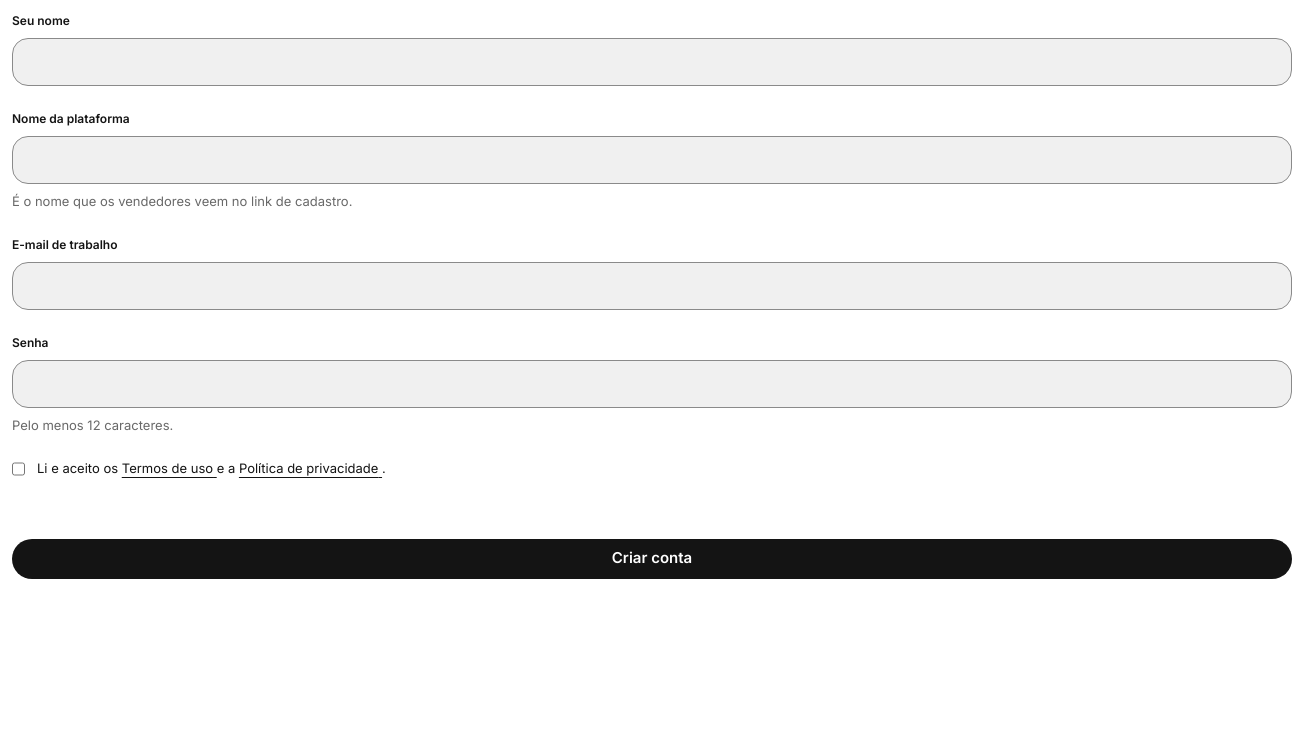
it: SignupForm (S1, AC 1, AC 2) › without a Turnstile token (the script never loaded), submitting shows auth.error.turnstile, not a dead button
The width and height of the screenshot is (1304, 732).
Type "Pessoa" into the field labelled "Seu nome" at (652, 62), box x1=12 y1=38 x2=1292 y2=86
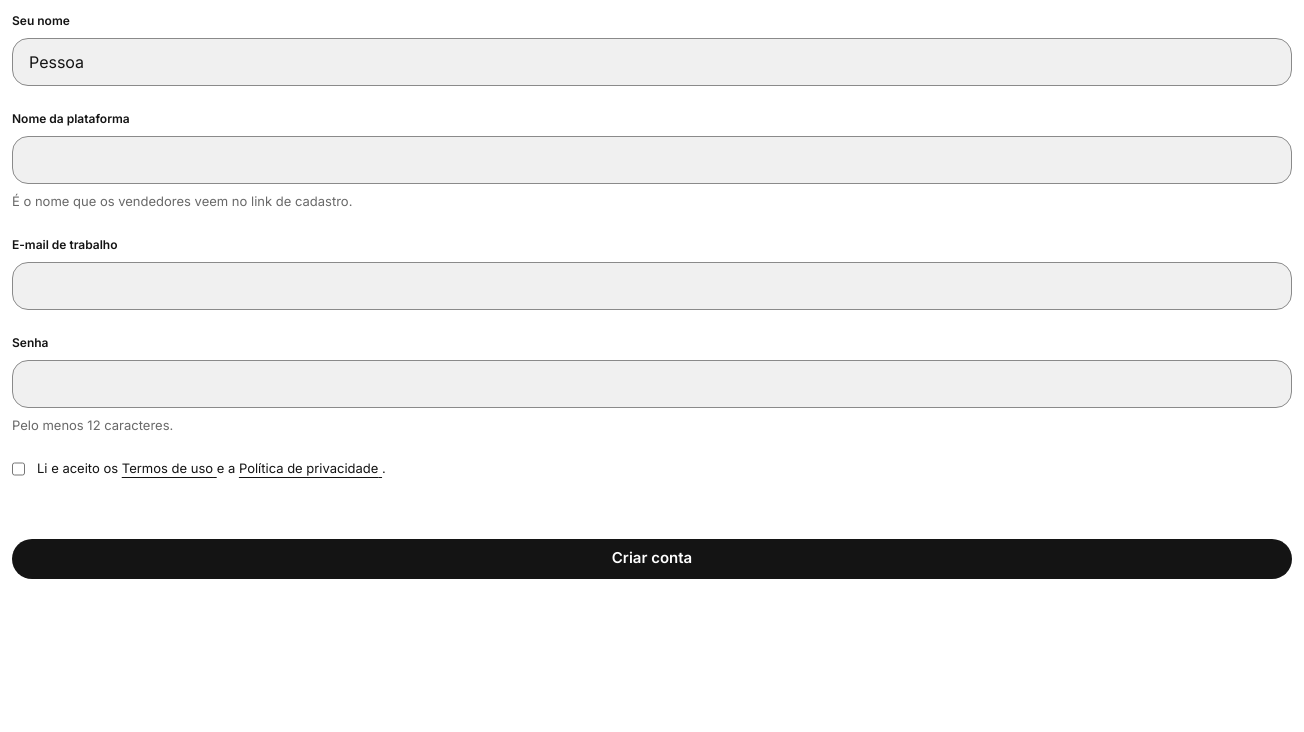
Type "P" into the field labelled "Nome da plataforma" at (652, 160), box x1=12 y1=136 x2=1292 y2=184
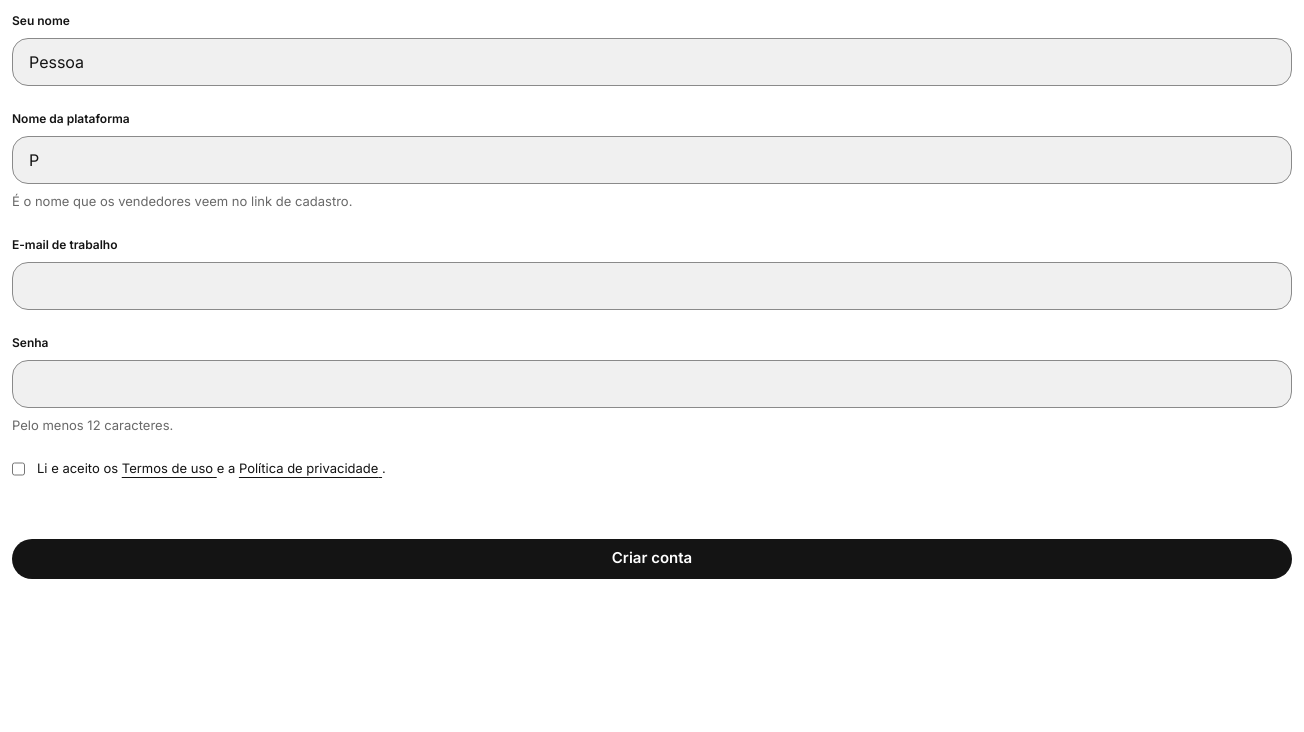
Type "p@exemplo.test" into the field labelled "E-mail de trabalho" at (652, 286), box x1=12 y1=262 x2=1292 y2=310
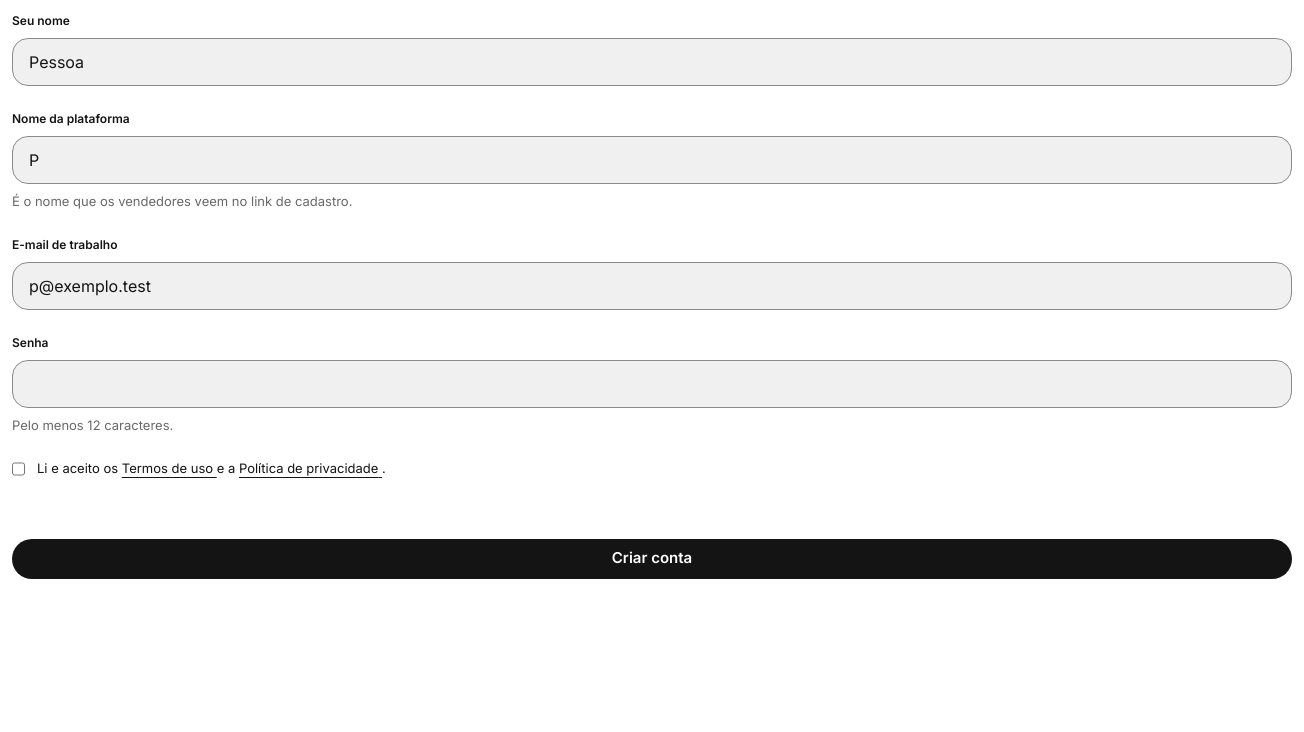
Type "senha-longa-123" into the password field labelled "Senha" at (652, 384), box x1=12 y1=360 x2=1292 y2=408
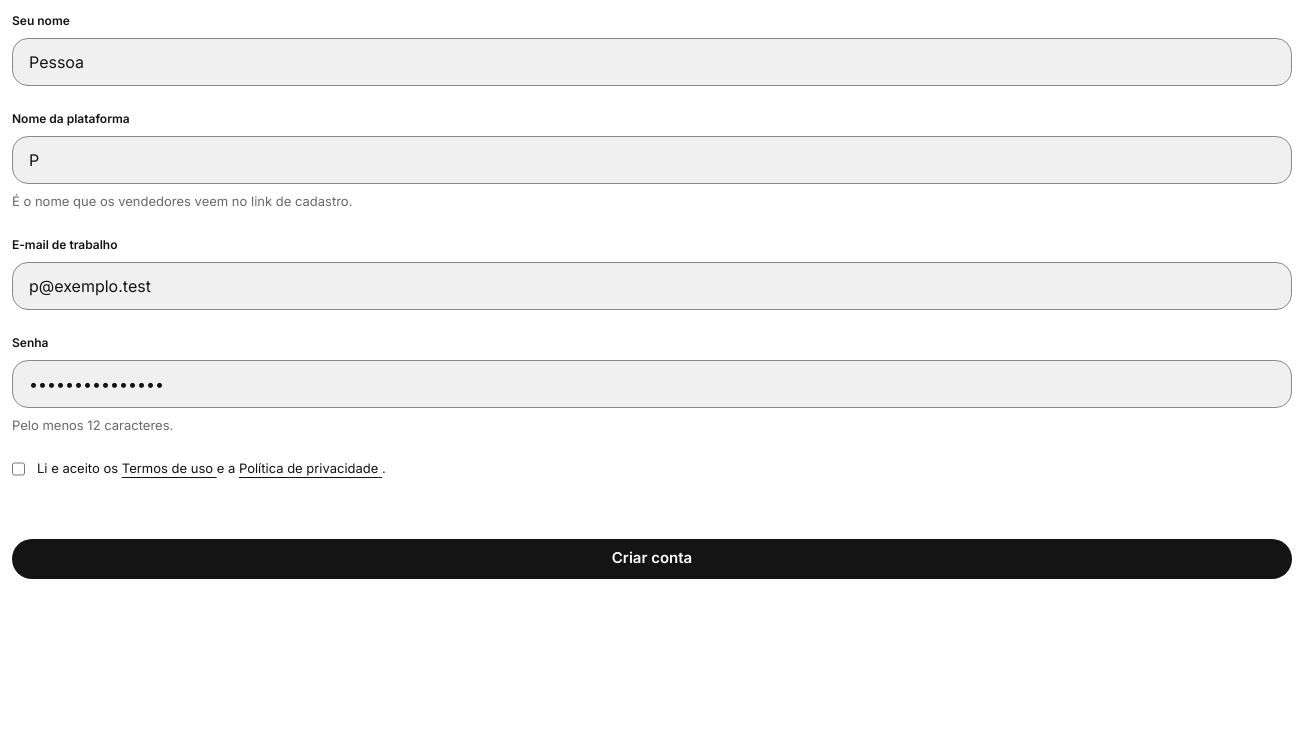
Click the checkbox at (18, 469), box x1=12 y1=459 x2=25 y2=478
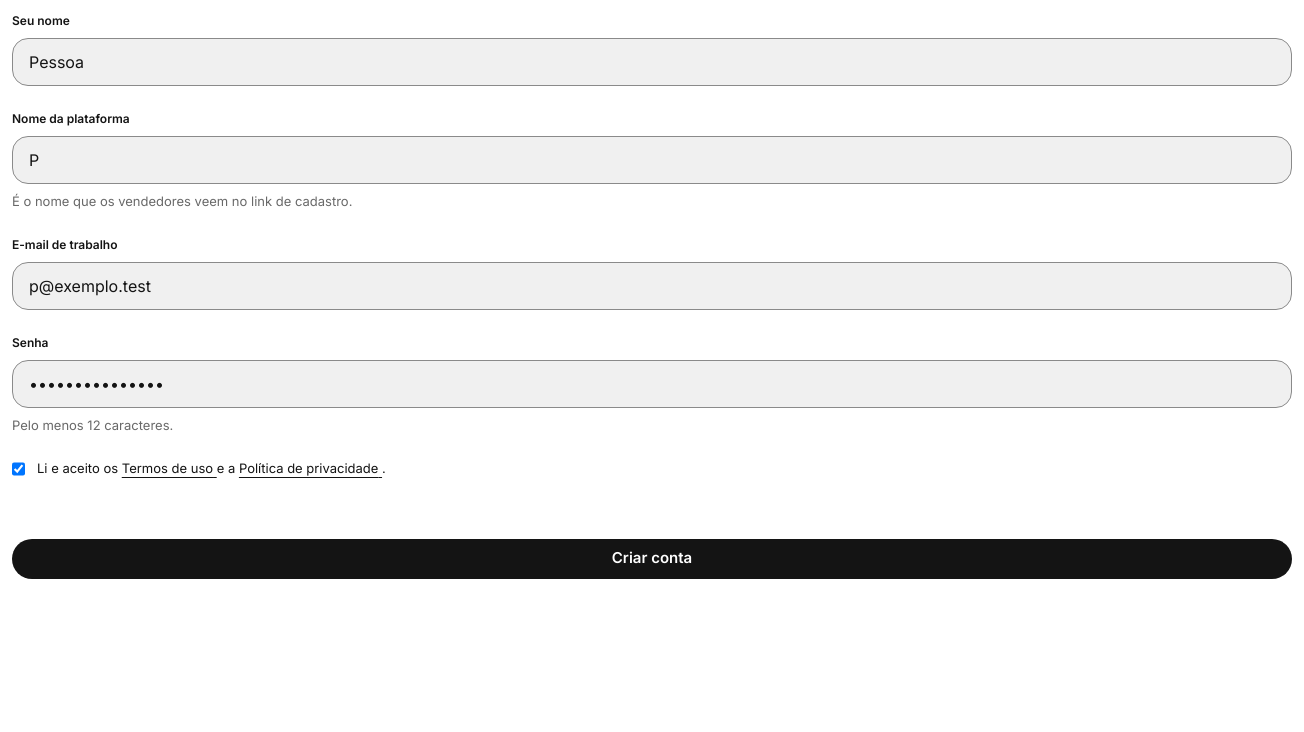
Click the button "Criar conta" at (652, 558), box x1=12 y1=538 x2=1292 y2=578
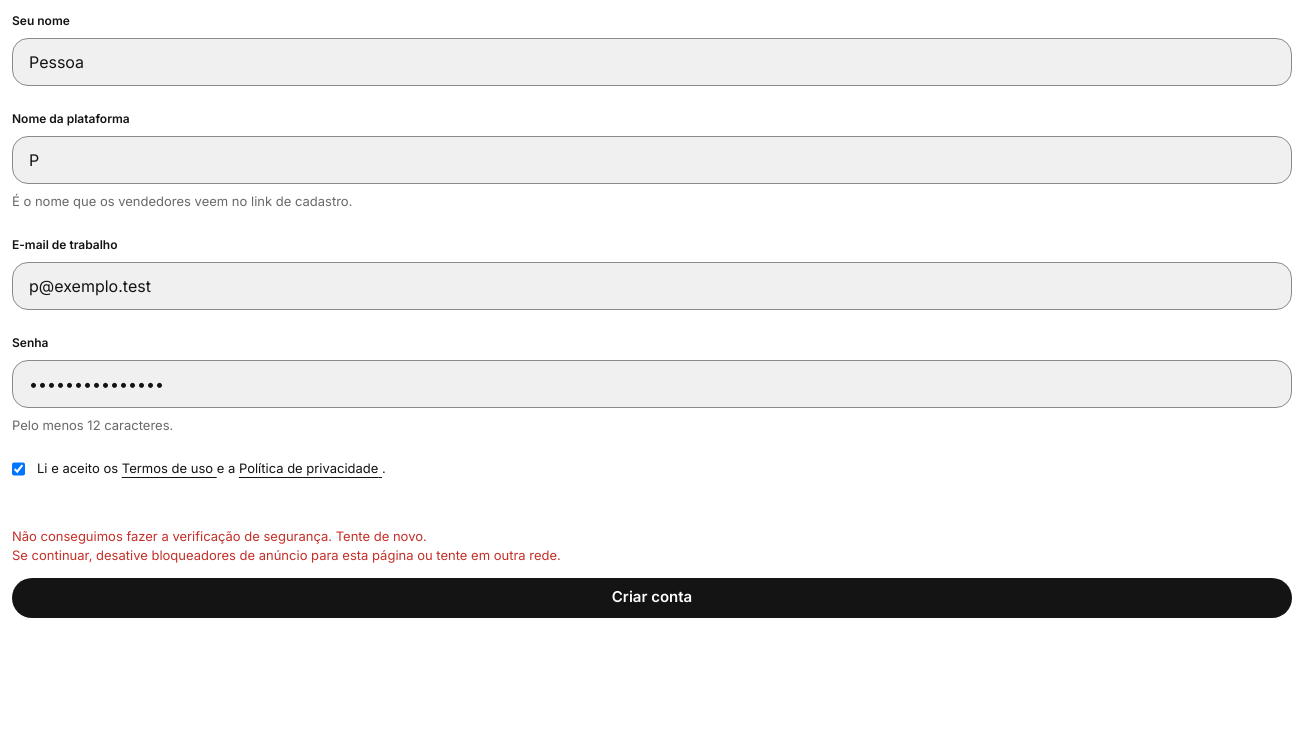
Now the message shows "verificação de segurança", box x1=12 y1=528 x2=427 y2=544
